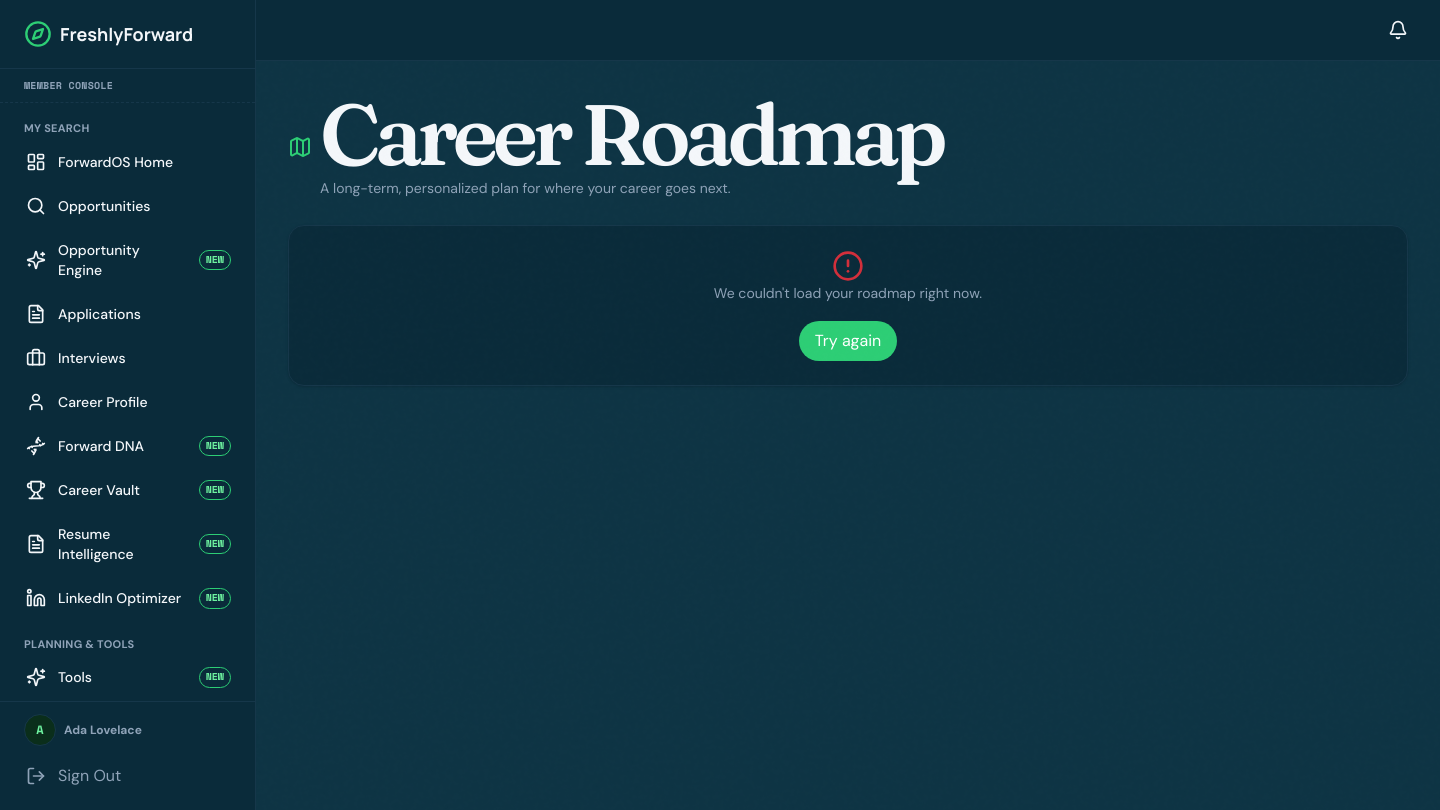
it: RoadmapPage › retries the fetch when Try again is clicked after an error
The image size is (1440, 810).
Expected: the message "We couldn't load your roadmap right now. Try again" is shown, top-left (288, 225), bottom-right (1408, 386)
Click the button "Try again" at (848, 342), box top-left (799, 322), bottom-right (897, 362)
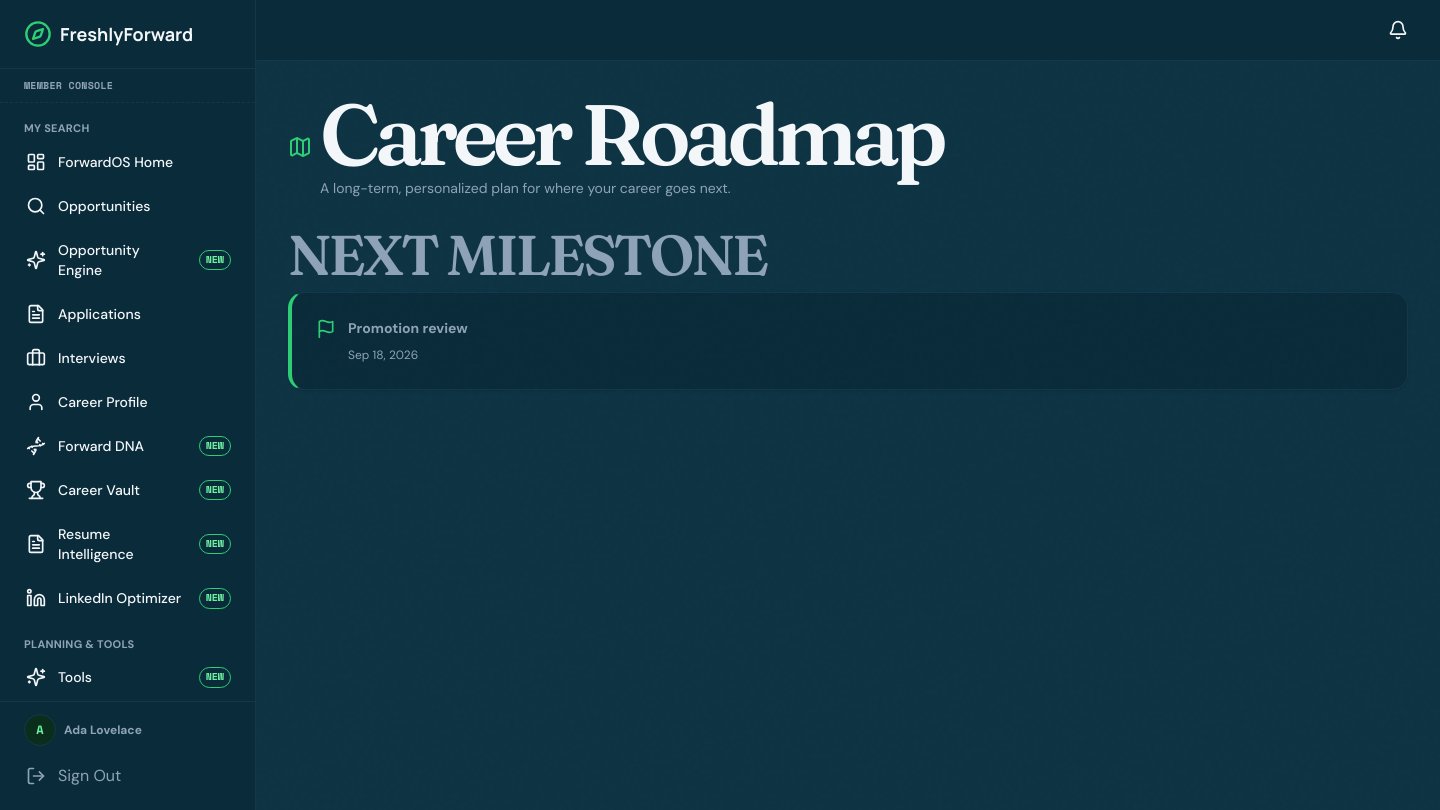
Result: the text "Promotion review" is shown at top-left (348, 317), bottom-right (468, 341)
